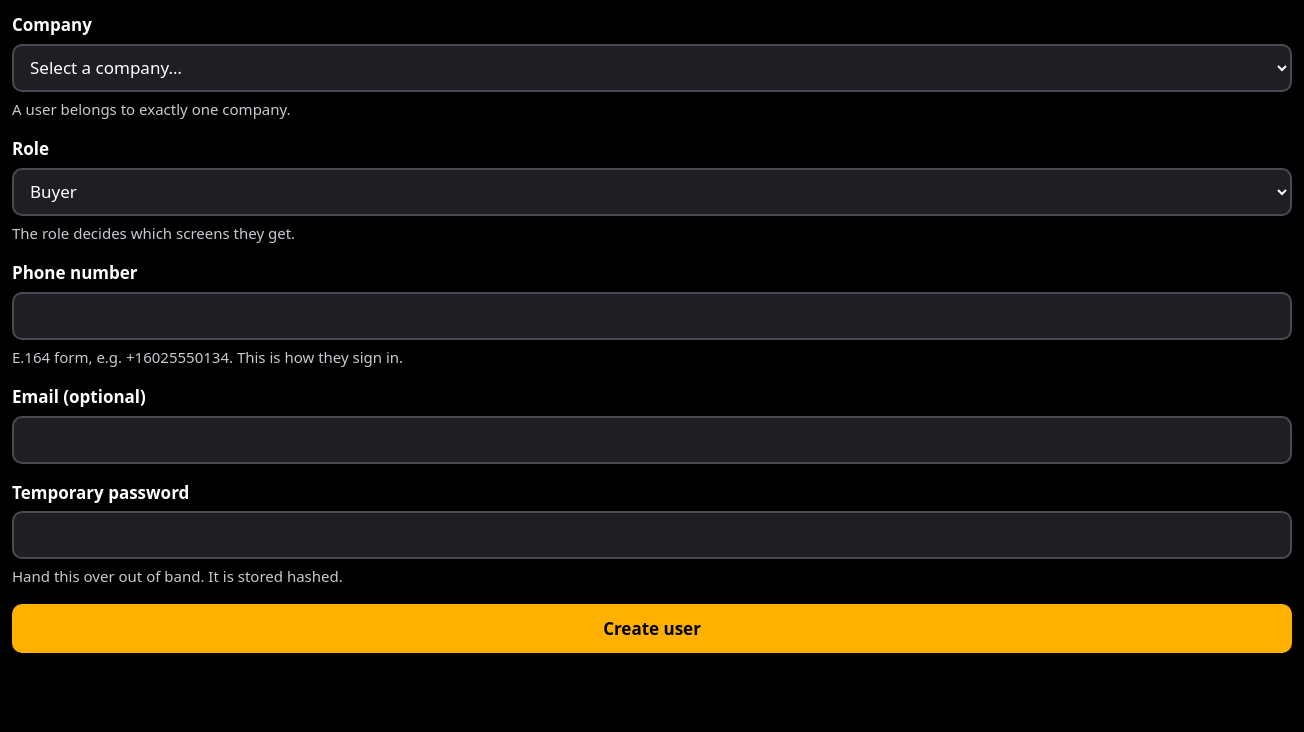
Test case: AdminUsers (Requirements 1.3-1.7) › surfaces a malformed phone number as an alert (Requirement 1.6)
This screenshot has width=1304, height=732.
Step 1. Type "602-555-0144" into the field labelled "Phone number" → coordinates (652, 316), box [12,292,1292,340]
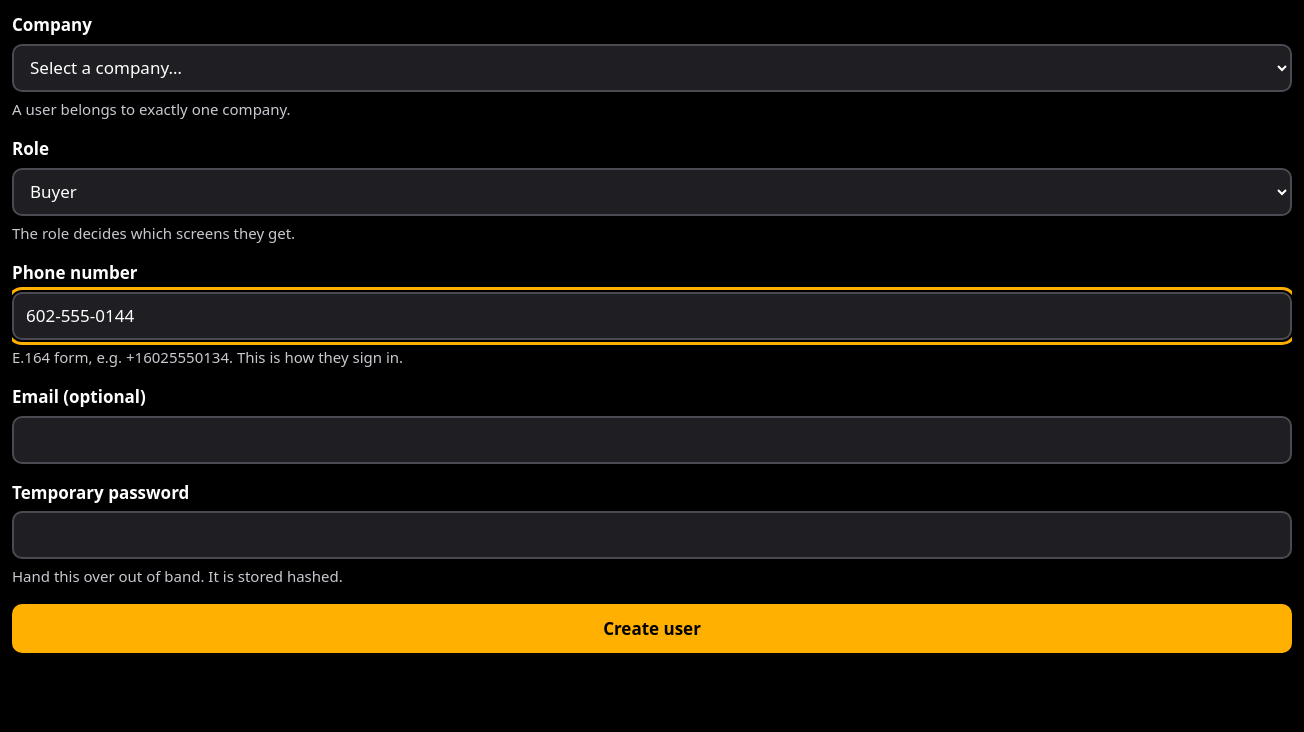
Step 2. Click the button "Create user" → coordinates (652, 628), box [12,604,1292,653]
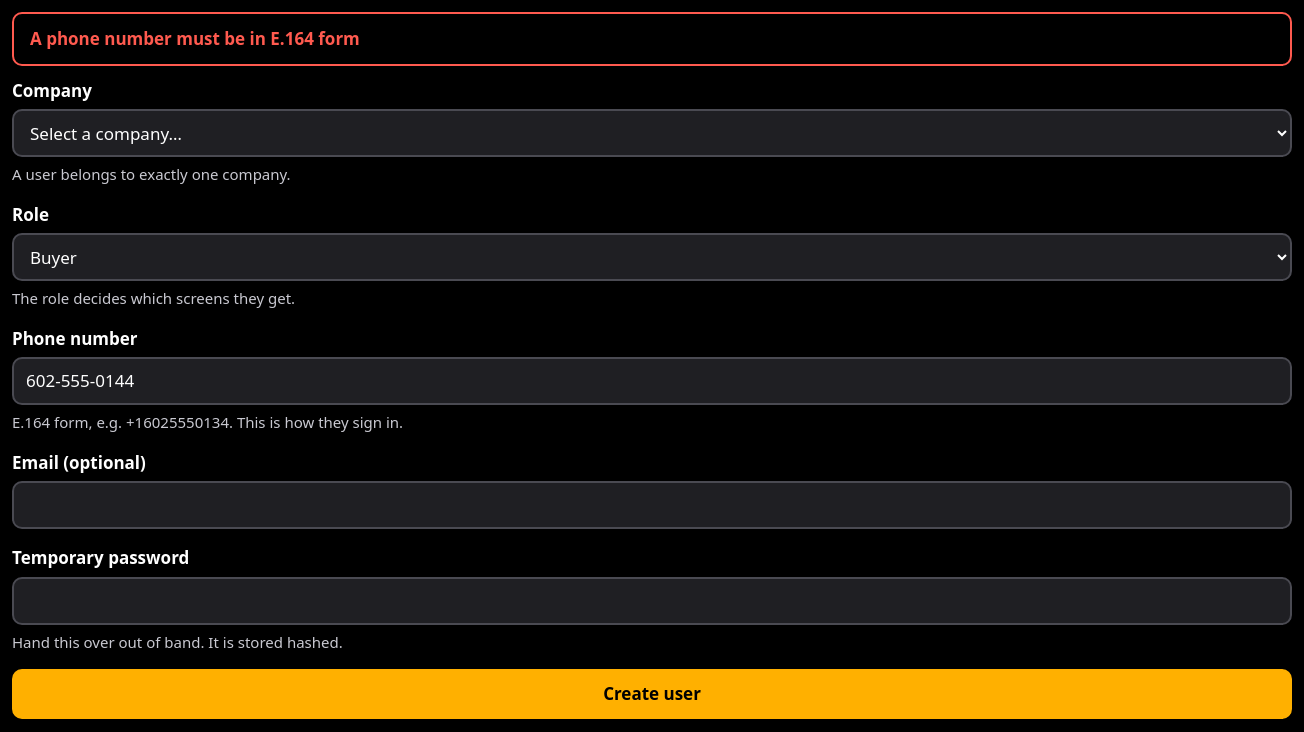
Expected: the message reads "A phone number must be in E.164 form", [30,27,360,50]
